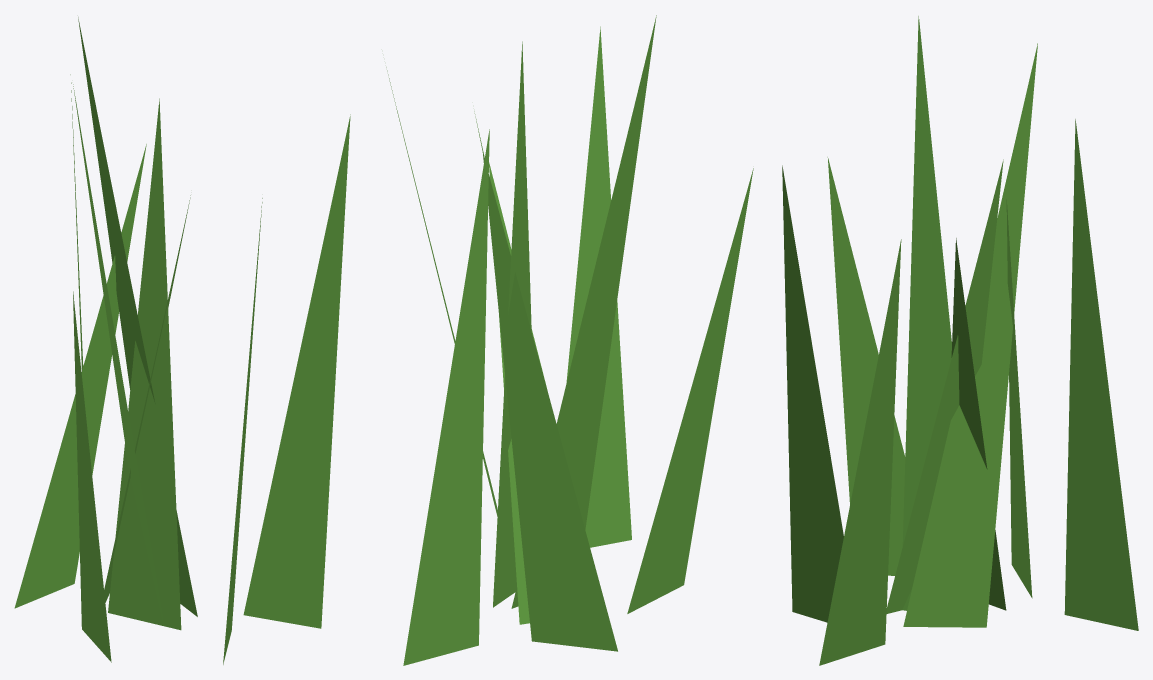
The model's file is Meadow_GrassTuft.fbx.
3 views of the same model, side by side, from view 1: azimuth 30°, elevation 25°; view 2: azimuth 150°, elevation 25°; view 3: azimuth 270°, elevation 25° (orthographic). The views are drawn at different scales.
Parts seen in each view (by area): view 1: Meadow_GrassTuft; view 2: Meadow_GrassTuft; view 3: Meadow_GrassTuft.
Part boxes in pixels (x1,y1,x2,y2): Meadow_GrassTuft: [14, 17, 350, 664]; Meadow_GrassTuft: [386, 15, 753, 665]; Meadow_GrassTuft: [782, 16, 1138, 665].
Size of the model in its own units: 0.302 by 0.519 by 0.2994.
